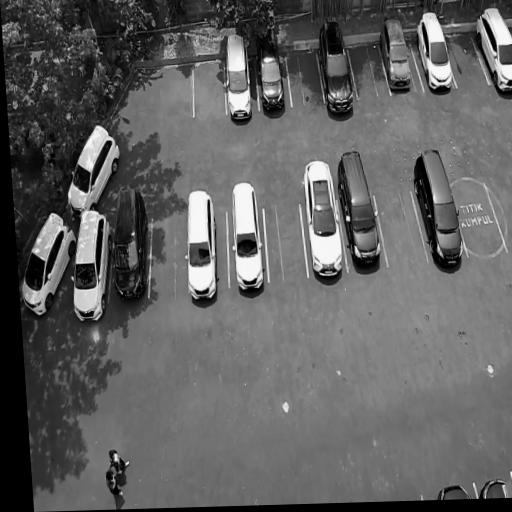Car: (405, 138, 471, 271), (296, 152, 348, 298), (335, 144, 387, 289), (19, 202, 80, 321), (61, 111, 124, 223), (179, 184, 223, 320), (67, 207, 114, 326), (226, 174, 269, 303), (106, 183, 151, 305), (409, 7, 459, 95), (315, 17, 357, 119), (469, 2, 512, 95), (221, 26, 258, 127), (252, 15, 288, 118), (377, 15, 418, 97), (475, 471, 507, 499), (435, 481, 472, 500)
Space Available: (373, 190, 429, 267), (452, 185, 507, 255), (264, 202, 309, 282), (149, 215, 187, 293), (346, 40, 391, 100), (444, 33, 489, 90), (285, 48, 326, 104), (192, 54, 228, 116), (485, 180, 512, 255)
